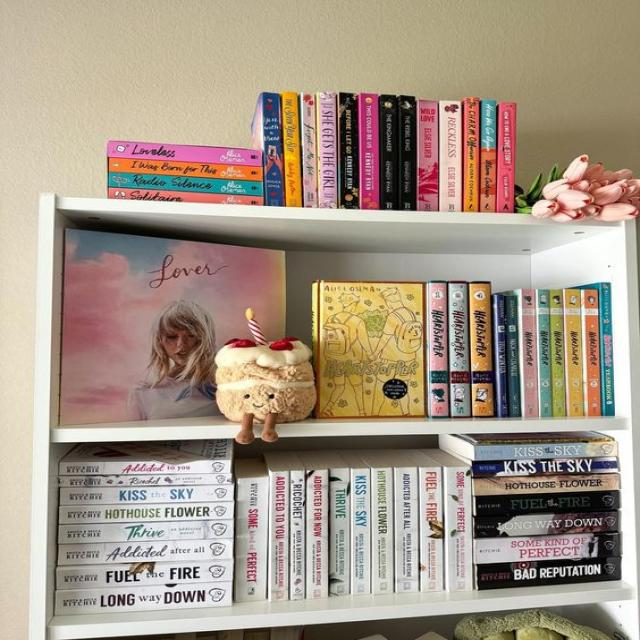book: (53, 582, 233, 615), (56, 559, 234, 591), (57, 538, 234, 566), (477, 557, 622, 591), (474, 535, 621, 564), (57, 519, 234, 543), (236, 477, 268, 602), (61, 483, 234, 505), (107, 142, 262, 166), (59, 502, 233, 523), (475, 492, 620, 517), (474, 512, 618, 537), (445, 467, 473, 591), (109, 158, 264, 180), (107, 174, 263, 195), (393, 467, 419, 592), (470, 282, 493, 417), (427, 281, 449, 417), (471, 458, 620, 478), (420, 467, 444, 591), (449, 282, 471, 417), (473, 476, 620, 496), (306, 470, 328, 599), (372, 468, 394, 595), (59, 459, 232, 475), (329, 468, 350, 596), (475, 443, 618, 461), (269, 471, 289, 599), (439, 101, 462, 211), (108, 189, 264, 205), (520, 288, 539, 417), (564, 289, 583, 415), (351, 469, 370, 594), (339, 91, 359, 209), (318, 91, 338, 208), (418, 100, 439, 210), (263, 92, 283, 206), (57, 473, 231, 486), (583, 290, 601, 415), (283, 91, 302, 206), (360, 93, 379, 208), (536, 290, 553, 418), (498, 103, 517, 213), (399, 95, 417, 209), (290, 470, 305, 600), (380, 94, 397, 208), (601, 282, 615, 416), (301, 92, 317, 208), (494, 295, 509, 417), (480, 98, 496, 211), (551, 290, 565, 416), (464, 96, 479, 212), (507, 294, 521, 417)
flowers: (530, 150, 640, 223)
